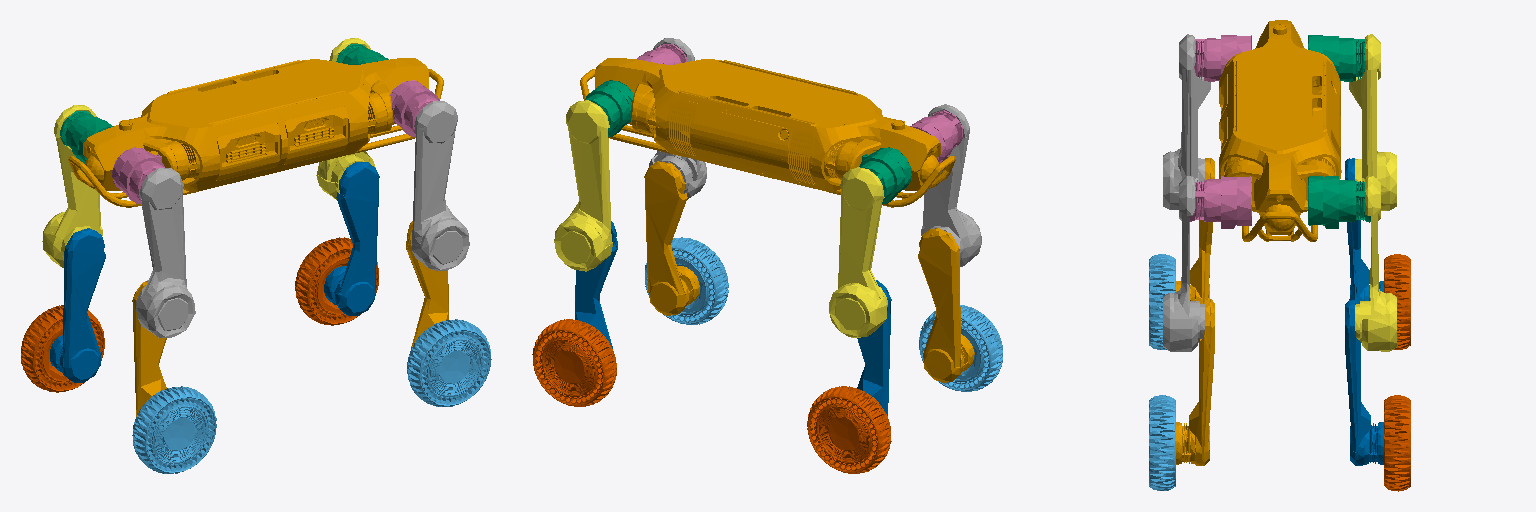
URDF robot description (CA9W):
<?xml version='1.0' encoding='utf-8'?>
<robot name="CA9W">
    <link name="TORSO">
        <inertial>
            <origin xyz="0 0 0" rpy="0 0 0"/>
            <mass value="1e-5"/>
            <inertia ixx="0" ixy="0" ixz="0" iyy="0" iyz="0" izz="0"/>
        </inertial>
        <visual>
            <origin xyz="0 0 0" rpy="0 0 0"/>
            <geometry>
                <mesh filename="package://m20_description/meshes/base_link.stl"/>
            </geometry>
        </visual>
        <collision>
            <origin xyz="0 0 0" rpy="0 0 0"/>
            <geometry>
                <box size="0.75 0.09 0.14"/>
            </geometry>
        </collision>
        <collision>
            <origin xyz="0 0.045 0" rpy="0 1.57079632 0"/>
            <geometry>
                <cylinder length="0.75" radius="0.07"/>
            </geometry>
        </collision>
        <collision>
            <origin xyz="0 -0.045 0" rpy="0 1.57079632 0"/>
            <geometry>
                <cylinder length="0.75" radius="0.07"/>
            </geometry>
        </collision>
    </link>

    <link name="INERTIA">
        <inertial>
            <origin xyz="-0.0004417 -0.007428 -0.001641" rpy="0 0 0"/>
            <mass value="14.5"/>
            <inertia ixx="0.02347" ixy="-0.0001019" ixz="2.493E-5" iyy="0.07120" iyz="0.0001274" izz="0.07795"/>
        </inertial>
    </link>

    <!--*************** Front Left Leg ***************-->
    <link name="FL_HIP">
        <inertial>
            <origin xyz="-0.0008982 0.06392 -0.0006497" rpy="0 0 0"/>
            <mass value="1.183"/>
            <inertia ixx="8.781E-4" ixy="1.562E-4" ixz="-3.009E-6" iyy="2.001E-3" iyz="-6.154E-6" izz="1.955E-3"/>
        </inertial>
        <visual>
            <origin xyz="0 0 0" rpy="0 0 0"/>
            <geometry>
                <mesh filename="package://m20_description/meshes/fl_hip.stl"/>
            </geometry>
        </visual>
    </link>
    <joint name="FL_HipX_joint" type="revolute">
        <origin xyz="0.31225 0.065 0" rpy="0 0 0"/>
        <parent link="TORSO"/>
        <child link="FL_HIP"/>
        <axis xyz="-1 0 0"/>
        <dynamics damping="0" friction="0"/>
        <limit lower="-0.4363" upper="0.6109" effort="76.4" velocity="22.4"/>
    </joint>
    <link name="FL_THIGH">
        <inertial>
            <origin xyz="-0.002529 0.01398 -0.2063" rpy="0 0 0"/>
            <mass value="1.506"/>
            <inertia ixx="1.568E-2" ixy="-7.963E-5" ixz="1.644E-4" iyy="1.544E-2" iyz="-1.807E-3" izz="2.276E-3"/>
        </inertial>
        <visual>
            <origin xyz="0 0 0" rpy="0 0 0"/>
            <geometry>
                <mesh filename="package://m20_description/meshes/fl_thigh.stl"/>
            </geometry>
        </visual>
        <collision>
            <origin xyz="0 -0.03 0" rpy="1.57079632 0 0"/>
            <geometry>
                <cylinder length="0.1" radius="0.048"/>
            </geometry>
        </collision>
        <collision>
            <origin xyz="-0.01 0.005 -0.125" rpy="0 0 0"/>
            <geometry>
                <box size="0.07 0.02 0.25"/>
            </geometry>
        </collision>
        <collision>
            <origin xyz="0 0.005 -0.25" rpy="1.57079632 0 0"/>
            <geometry>
                <cylinder length="0.09" radius="0.05"/>
            </geometry>
        </collision>
    </link>
    <joint name="FL_HipY_joint" type="revolute">
        <origin xyz="0 0.104 0" rpy="0 0 0"/>
        <parent link="FL_HIP"/>
        <child link="FL_THIGH"/>
        <axis xyz="0 -1 0"/>
        <dynamics damping="0" friction="0"/>
        <limit lower="-2.2864" upper="2.583" effort="76.4" velocity="22.4"/>
    </joint>
    <link name="FL_SHANK">
        <inertial>
            <origin xyz="0.002171 0.01967 -0.1979" rpy="0 0 0"/>
            <mass value="1.244"/>
            <inertia ixx="8.156E-3" ixy="-6.974E-5" ixz="-3.069E-4" iyy="8.025E-3" iyz="9.843E-4" izz="1.676E-3"/>
        </inertial>
        <visual>
            <origin xyz="0 0 0" rpy="0 0 0"/>
            <geometry>
                <mesh filename="package://m20_description/meshes/fl_shank.stl"/>
            </geometry>
        </visual>
        <collision>
            <origin xyz="0.015 0.0025 -0.125" rpy="0 0 0"/>
            <geometry>
                <box size="0.06 0.025 0.25"/>
            </geometry>
        </collision>
        <collision>
            <origin xyz="0 0.04 -0.25" rpy="1.57079632 0 0"/>
            <geometry>
                <cylinder length="0.1" radius="0.04"/>
            </geometry>
        </collision>
    </link>
    <joint name="FL_Knee_joint" type="revolute">
        <origin xyz="0 -0.0286 -0.25" rpy="0 0 0"/>
        <parent link="FL_THIGH"/>
        <child link="FL_SHANK"/>
        <axis xyz="0 -1 0"/>
        <dynamics damping="0" friction="0"/>
        <limit lower="-2.81" upper="2.793" effort="76.4" velocity="22.4"/>
    </joint>
    <link name="FL_WHEEL">
        <inertial>
            <origin xyz="0 0.0801 0" rpy="0 0 0"/>
            <mass value="1.429"/>
            <inertia ixx="3.173E-3" ixy="2.433E-6" ixz="-8.15E-7" iyy="4.606E-3" iyz="1.772E-6" izz="3.177E-3"/>
        </inertial>
        <visual>
            <origin xyz="0 0 0" rpy="0 0 0"/>
            <geometry>
                <mesh filename="package://m20_description/meshes/l_wheel.stl"/>
            </geometry>
        </visual>
        <collision>
            <origin xyz="0 0.08 0" rpy="1.57079632 0 0"/>
            <geometry>
                <cylinder length="0.054" radius="0.09"/>
            </geometry>
        </collision>
    </link>
    <!-- <joint name="FL_Wheel_joint" type="continuous">
        <origin xyz="0 0 -0.25" rpy="0 0 0"/>
        <parent link="FL_SHANK"/>
        <child link="FL_WHEEL"/>
        <axis xyz="0 -1 0"/>
        <limit effort="999" velocity="79.3"/>
    </joint> -->
    <joint name="FL_Wheel_joint" type="revolute">
        <origin xyz="0 0 -0.25" rpy="0 0 0"/>
        <parent link="FL_SHANK"/>
        <child link="FL_WHEEL"/>
        <axis xyz="0 -1 0"/>
        <limit effort="21.6" velocity="79.3" lower="-999999" upper="999999"/>
    </joint>
    <!--*************** Front Right Leg ***************-->
    <link name="FR_HIP">
        <inertial>
            <origin xyz="-0.0008982 -0.06392 -0.0006497" rpy="0 0 0"/>
            <mass value="1.183"/>
            <inertia ixx="8.781E-4" ixy="-1.562E-4" ixz="-3.009E-6" iyy="2.001E-3" iyz="6.154E-6" izz="1.955E-3"/>
        </inertial>
        <visual>
            <origin xyz="0 0 0" rpy="0 0 0"/>
            <geometry>
                <mesh filename="package://m20_description/meshes/fr_hip.stl"/>
            </geometry>
        </visual>
    </link>
    <joint name="FR_HipX_joint" type="revolute">
        <origin xyz="0.31225 -0.065 0" rpy="0 0 0"/>
        <parent link="TORSO"/>
        <child link="FR_HIP"/>
        <axis xyz="-1 0 0"/>
        <dynamics damping="0" friction="0"/>
        <limit lower="-0.6109" upper="0.4363" effort="76.4" velocity="22.4"/>
    </joint>
    <link name="FR_THIGH">
        <inertial>
            <origin xyz="-0.002529 -0.01398 -0.2063" rpy="0 0 0"/>
            <mass value="1.506"/>
            <inertia ixx="1.568E-2" ixy="7.963E-5" ixz="1.644E-4" iyy="1.544E-2" iyz="1.807E-3" izz="2.276E-3"/>
        </inertial>
        <visual>
            <origin xyz="0 0 0" rpy="0 0 0"/>
            <geometry>
                <mesh filename="package://m20_description/meshes/fr_thigh.stl"/>
            </geometry>
        </visual>
        <collision>
            <origin xyz="0 0.03 0" rpy="1.57079632 0 0"/>
            <geometry>
                <cylinder length="0.1" radius="0.048"/>
            </geometry>
        </collision>
        <collision>
            <origin xyz="-0.01 -0.005 -0.125" rpy="0 0 0"/>
            <geometry>
                <box size="0.07 0.02 0.25"/>
            </geometry>
        </collision>
        <collision>
            <origin xyz="0 -0.005 -0.25" rpy="1.57079632 0 0"/>
            <geometry>
                <cylinder length="0.09" radius="0.05"/>
            </geometry>
        </collision>
    </link>
    <joint name="FR_HipY_joint" type="revolute">
        <origin xyz="0 -0.104 0" rpy="0 0 0"/>
        <parent link="FR_HIP"/>
        <child link="FR_THIGH"/>
        <axis xyz="0 -1 0"/>
        <dynamics damping="0" friction="0"/>
        <limit lower="-2.2864" upper="2.583" effort="76.4" velocity="22.4"/>
    </joint>
    <link name="FR_SHANK">
        <inertial>
            <origin xyz="0.002171 -0.01967 -0.1979" rpy="0 0 0"/>
            <mass value="1.244"/>
            <inertia ixx="8.156E-3" ixy="6.974E-5" ixz="-3.069E-4" iyy="8.025E-3" iyz="-9.843E-4" izz="1.676E-3"/>
        </inertial>
        <visual>
            <origin xyz="0 0 0" rpy="0 0 0"/>
            <geometry>
                <mesh filename="package://m20_description/meshes/fr_shank.stl"/>
            </geometry>
        </visual>
        <collision>
            <origin xyz="0.015 -0.0025 -0.125" rpy="0 0 0"/>
            <geometry>
                <box size="0.06 0.025 0.25"/>
            </geometry>
        </collision>
        <collision>
            <origin xyz="0 -0.04 -0.25" rpy="1.57079632 0 0"/>
            <geometry>
                <cylinder length="0.1" radius="0.04"/>
            </geometry>
        </collision>
    </link>
    <joint name="FR_Knee_joint" type="revolute">
        <origin xyz="0 0.0286 -0.25" rpy="0 0 0"/>
        <parent link="FR_THIGH"/>
        <child link="FR_SHANK"/>
        <axis xyz="0 -1 0"/>
        <dynamics damping="0" friction="0"/>
        <limit lower="-2.81" upper="2.793" effort="76.4" velocity="22.4"/>
    </joint>
    <link name="FR_WHEEL">
        <inertial>
            <origin xyz="0 -0.0801 0" rpy="0 0 0"/>
            <mass value="1.429"/>
            <inertia ixx="3.173E-3" ixy="-2.433E-6" ixz="-8.15E-7" iyy="4.606E-3" iyz="-1.772E-6" izz="3.177E-3"/>
        </inertial>
        <visual>
            <origin xyz="0 0 0" rpy="0 0 0"/>
            <geometry>
                <mesh filename="package://m20_description/meshes/r_wheel.stl"/>
            </geometry>
        </visual>
        <collision>
            <origin xyz="0 -0.08 0" rpy="1.57079632 0 0"/>
            <geometry>
                <cylinder length="0.054" radius="0.09"/>
            </geometry>
        </collision>
    </link>
    <!-- <joint name="FR_Wheel_joint" type="continuous">
        <origin xyz="0 0 -0.25" rpy="0 0 0"/>
        <parent link="FR_SHANK"/>
        <child link="FR_WHEEL"/>
        <axis xyz="0 -1 0"/>
        <limit effort="999" velocity="79.3"/>
    </joint> -->
    <joint name="FR_Wheel_joint" type="revolute">
        <origin xyz="0 0 -0.25" rpy="0 0 0"/>
        <parent link="FR_SHANK"/>
        <child link="FR_WHEEL"/>
        <axis xyz="0 -1 0"/>
        <limit effort="21.6" velocity="79.3" lower="-999999" upper="999999"/>
    </joint>


    <!--*************** Hind Left Leg ***************-->
    <link name="HL_HIP">
        <inertial>
            <origin xyz="0.0008982 0.06392 -0.0006497" rpy="0 0 0"/>
            <mass value="1.183"/>
            <inertia ixx="8.781E-4" ixy="-1.562E-4" ixz="3.009E-6" iyy="2.001E-3" iyz="-6.154E-6" izz="1.955E-3"/>
        </inertial>
        <visual>
            <origin xyz="0 0 0" rpy="0 0 0"/>
            <geometry>
                <mesh filename="package://m20_description/meshes/hl_hip.stl"/>
            </geometry>
        </visual>
    </link>
    <joint name="HL_HipX_joint" type="revolute">
        <origin xyz="-0.31225 0.065 0" rpy="0 0 0"/>
        <parent link="TORSO"/>
        <child link="HL_HIP"/>
        <axis xyz="-1 0 0"/>
        <dynamics damping="0" friction="0"/>
        <limit lower="-0.4363" upper="0.6109" effort="76.4" velocity="22.4"/>
    </joint>
    <link name="HL_THIGH">
        <inertial>
            <origin xyz="0.002529 0.01398 -0.2063" rpy="0 0 0"/>
            <mass value="1.506"/>
            <inertia ixx="1.568E-2" ixy="7.963E-5" ixz="-1.644E-4" iyy="1.544E-2" iyz="-1.807E-3" izz="2.276E-3"/>
        </inertial>
        <visual>
            <origin xyz="0 0 0" rpy="0 0 0"/>
            <geometry>
                <mesh filename="package://m20_description/meshes/hl_thigh.stl"/>
            </geometry>
        </visual>
        <collision>
            <origin xyz="0 -0.03 0" rpy="1.57079632 0 0"/>
            <geometry>
                <cylinder length="0.1" radius="0.048"/>
            </geometry>
        </collision>
        <collision>
            <origin xyz="0.01 0.005 -0.125" rpy="0 0 0"/>
            <geometry>
                <box size="0.07 0.02 0.25"/>
            </geometry>
        </collision>
        <collision>
            <origin xyz="0 0.005 -0.25" rpy="1.57079632 0 0"/>
            <geometry>
                <cylinder length="0.09" radius="0.05"/>
            </geometry>
        </collision>
    </link>
    <joint name="HL_HipY_joint" type="revolute">
        <origin xyz="0 0.104 0" rpy="0 0 0"/>
        <parent link="HL_HIP"/>
        <child link="HL_THIGH"/>
        <axis xyz="0 -1 0"/>
        <dynamics damping="0" friction="0"/>
        <limit lower="-2.583" upper="2.2864" effort="76.4" velocity="22.4"/>
    </joint>
    <link name="HL_SHANK">
        <inertial>
            <origin xyz="-0.002171 0.01967 -0.1979" rpy="0 0 0"/>
            <mass value="1.244"/>
            <inertia ixx="8.156E-3" ixy="6.974E-5" ixz="3.069E-4" iyy="8.025E-3" iyz="9.843E-4" izz="1.676E-3"/>
        </inertial>
        <visual>
            <origin xyz="0 0 0" rpy="0 0 0"/>
            <geometry>
                <mesh filename="package://m20_description/meshes/hl_shank.stl"/>
            </geometry>
        </visual>
        <collision>
            <origin xyz="-0.015 0.0025 -0.125" rpy="0 0 0"/>
            <geometry>
                <box size="0.06 0.025 0.25"/>
            </geometry>
        </collision>
        <collision>
            <origin xyz="0 0.04 -0.25" rpy="1.57079632 0 0"/>
            <geometry>
                <cylinder length="0.1" radius="0.04"/>
            </geometry>
        </collision>
    </link>
    <joint name="HL_Knee_joint" type="revolute">
        <origin xyz="0 -0.0286 -0.25" rpy="0 0 0"/>
        <parent link="HL_THIGH"/>
        <child link="HL_SHANK"/>
        <axis xyz="0 -1 0"/>
        <dynamics damping="0" friction="0"/>
        <limit lower="-2.793" upper="2.81" effort="76.4" velocity="22.4"/>
    </joint>
    <link name="HL_WHEEL">
        <inertial>
            <origin xyz="0 0.0801 0" rpy="0 0 0"/>
            <mass value="1.429"/>
            <inertia ixx="3.173E-3" ixy="-2.433E-6" ixz="8.15E-7" iyy="4.606E-3" iyz="1.772E-6" izz="3.177E-3"/>
        </inertial>
        <visual>
            <origin xyz="0 0 0" rpy="0 0 0"/>
            <geometry>
                <mesh filename="package://m20_description/meshes/l_wheel.stl"/>
            </geometry>
        </visual>
        <collision>
            <origin xyz="0 0.08 0" rpy="1.57079632 0 0"/>
            <geometry>
                <cylinder length="0.054" radius="0.09"/>
            </geometry>
        </collision>
    </link>
    <!-- <joint name="HL_Wheel_joint" type="continuous">
        <origin xyz="0 0 -0.25" rpy="0 0 0"/>
        <parent link="HL_SHANK"/>
        <child link="HL_WHEEL"/>
        <axis xyz="0 -1 0"/>
        <limit effort="999" velocity="79.3"/>
    </joint> -->
    <joint name="HL_Wheel_joint" type="revolute">
        <origin xyz="0 0 -0.25" rpy="0 0 0"/>
        <parent link="HL_SHANK"/>
        <child link="HL_WHEEL"/>
        <axis xyz="0 -1 0"/>
        <limit effort="21.6" velocity="79.3" lower="-999999" upper="999999"/>
    </joint>

    <!--*************** Hind Right Leg ***************-->
    <link name="HR_HIP">
        <inertial>
            <origin xyz="0.0008982 -0.06392 -0.0006497" rpy="0 0 0"/>
            <mass value="1.183"/>
            <inertia ixx="8.781E-4" ixy="1.562E-4" ixz="3.009E-6" iyy="2.001E-3" iyz="6.154E-6" izz="1.955E-3"/>
        </inertial>
        <visual>
            <origin xyz="0 0 0" rpy="0 0 0"/>
            <geometry>
                <mesh filename="package://m20_description/meshes/hr_hip.stl"/>
            </geometry>
        </visual>
    </link>
    <joint name="HR_HipX_joint" type="revolute">
        <origin xyz="-0.31225 -0.065 0" rpy="0 0 0"/>
        <parent link="TORSO"/>
        <child link="HR_HIP"/>
        <axis xyz="-1 0 0"/>
        <dynamics damping="0" friction="0"/>
        <limit lower="-0.6109" upper="0.4363" effort="76.4" velocity="22.4"/>
        <!-- <safety_controller soft_upper_limit="1" soft_lower_limit="1" k_position="100" k_velocity="1"/> -->
    </joint>
    <link name="HR_THIGH">
        <inertial>
            <origin xyz="0.002529 -0.01398 -0.2063" rpy="0 0 0"/>
            <mass value="1.506"/>
            <inertia ixx="1.568E-2" ixy="-7.963E-5" ixz="-1.644E-4" iyy="1.544E-2" iyz="1.807E-3" izz="2.276E-3"/>
        </inertial>
        <visual>
            <origin xyz="0 0 0" rpy="0 0 0"/>
            <geometry>
                <mesh filename="package://m20_description/meshes/hr_thigh.stl"/>
            </geometry>
        </visual>
        <collision>
            <origin xyz="0 0.03 0" rpy="1.57079632 0 0"/>
            <geometry>
                <cylinder length="0.1" radius="0.048"/>
            </geometry>
        </collision>
        <collision>
            <origin xyz="0.01 0.005 -0.125" rpy="0 0 0"/>
            <geometry>
                <box size="0.07 0.02 0.25"/>
            </geometry>
        </collision>
        <collision>
            <origin xyz="0 -0.005 -0.25" rpy="1.57079632 0 0"/>
            <geometry>
                <cylinder length="0.09" radius="0.05"/>
            </geometry>
        </collision>
    </link>
    <joint name="HR_HipY_joint" type="revolute">
        <origin xyz="0 -0.104 0" rpy="0 0 0"/>
        <parent link="HR_HIP"/>
        <child link="HR_THIGH"/>
        <axis xyz="0 -1 0"/>
        <dynamics damping="0" friction="0"/>
        <limit lower="-2.583" upper="2.2864" effort="76.4" velocity="22.4"/>
    </joint>
    <link name="HR_SHANK">
        <inertial>
            <origin xyz="-0.002171 -0.01967 -0.1979" rpy="0 0 0"/>
            <mass value="1.244"/>
            <inertia ixx="8.156E-3" ixy="-6.974E-5" ixz="3.069E-4" iyy="8.025E-3" iyz="-9.843E-4" izz="1.676E-3"/>
        </inertial>
        <visual>
            <origin xyz="0 0 0" rpy="0 0 0"/>
            <geometry>
                <mesh filename="package://m20_description/meshes/hr_shank.stl"/>
            </geometry>
        </visual>
        <collision>
            <origin xyz="-0.015 -0.0025 -0.125" rpy="0 0 0"/>
            <geometry>
                <box size="0.06 0.025 0.25"/>
            </geometry>
        </collision>
        <collision>
            <origin xyz="0 -0.04 -0.25" rpy="1.57079632 0 0"/>
            <geometry>
                <cylinder length="0.1" radius="0.04"/>
            </geometry>
        </collision>
    </link>
    <joint name="HR_Knee_joint" type="revolute">
        <origin xyz="0 0.0286 -0.25" rpy="0 0 0"/>
        <parent link="HR_THIGH"/>
        <child link="HR_SHANK"/>
        <axis xyz="0 -1 0"/>
        <dynamics damping="0" friction="0"/>
        <limit lower="-2.793" upper="2.81" effort="76.4" velocity="22.4"/>
    </joint>
    <link name="HR_WHEEL">
        <inertial>
            <origin xyz="0 -0.0801 0" rpy="0 0 0"/>
            <mass value="1.429"/>
            <inertia ixx="3.173E-3" ixy="2.433E-6" ixz="8.15E-7" iyy="4.606E-3" iyz="-1.772E-6" izz="3.177E-3"/>
        </inertial>
        <visual>
            <origin xyz="0 0 0" rpy="0 0 0"/>
            <geometry>
                <mesh filename="package://m20_description/meshes/r_wheel.stl"/>
            </geometry>
        </visual>
        <collision>
            <origin xyz="0 -0.08 0" rpy="1.57079632 0 0"/>
            <geometry>
                <cylinder length="0.054" radius="0.09"/>
            </geometry>
        </collision>
    </link>
    <!-- <joint name="HR_Wheel_joint" type="continuous">
        <origin xyz="0 0 -0.25" rpy="0 0 0"/>
        <parent link="HR_SHANK"/>
        <child link="HR_WHEEL"/>
        <axis xyz="0 -1 0"/>
        <limit effort="999" velocity="79.3"/>
    </joint> -->
    <joint name="HR_Wheel_joint" type="revolute">
        <origin xyz="0 0 -0.25" rpy="0 0 0"/>
        <parent link="HR_SHANK"/>
        <child link="HR_WHEEL"/>
        <axis xyz="0 -1 0"/>
        <limit effort="21.6" velocity="79.3" lower="-999999" upper="999999"/>
    </joint>

    <joint name="Torso2Inertia" type="fixed">
        <parent link="TORSO"/>
        <child link="INERTIA"/>
    </joint>

    <link name="imu_link">
      <inertial>
        <origin xyz="0 0 0" rpy="0 0 0" />
        <mass value="0" />
        <inertia ixx="0" ixy="0" ixz="0" iyy="0" iyz="0" izz="0" />
      </inertial>
    </link>
    <joint name="imu_joint" type="fixed">
      <origin xyz="-0.02557 0 0.04232" rpy="0 0 0" />
      <parent link="TORSO" />
      <child link="imu_link" />
      <axis xyz="0 0 0" />
    </joint>
    <link name="radar_link">
      <inertial>
        <origin xyz="0 0 0" rpy="0 0 0" />
        <mass value="0" />
        <inertia ixx="0" ixy="0" ixz="0" iyy="0" iyz="0" izz="0" />
      </inertial>
    </link>
    <joint name="radar_joint" type="fixed">
      <origin xyz="0.28945 0 -0.046825" rpy="0 2.8782 0" />
      <parent link="TORSO" />
      <child link="radar_link" />
      <axis xyz="0 0 0" />
    </joint>

</robot>

--- What the picture shows (computed from the rendered views, not written in the file) ---
The picture shows the robot from 3 angles, left to right: view 1: azimuth 30°, elevation 25°; view 2: azimuth 150°, elevation 25°; view 3: azimuth 270°, elevation 25°; orthographic projection.
Model CA9W with 20 links and 19 joints (16 revolute, 3 fixed), rooted at TORSO, posed all joints at 0.
Visible links, largest first — view 1: TORSO, HR_THIGH, FR_THIGH, FR_WHEEL, HR_WHEEL, FL_SHANK, HL_SHANK, HL_THIGH, FL_WHEEL, HL_WHEEL, HR_SHANK, FR_SHANK (+5 smaller); view 2: TORSO, HL_THIGH, FL_THIGH, FL_WHEEL, HL_WHEEL, FR_SHANK, HR_SHANK, HR_THIGH, FR_WHEEL, HR_WHEEL, HL_SHANK, FL_SHANK (+5 smaller); view 3: TORSO, HR_THIGH, HL_THIGH, FR_THIGH, FL_THIGH, FR_SHANK, FL_SHANK, FR_HIP, FL_HIP, FL_WHEEL, FR_WHEEL, HL_WHEEL (+5 smaller).
Link boxes in pixels (<box>): TORSO: <box>68,58,443,207</box>; HR_THIGH: <box>136,168,195,337</box>; FR_THIGH: <box>411,101,469,271</box>; FR_WHEEL: <box>407,319,491,406</box>; HR_WHEEL: <box>132,386,216,473</box>; FL_SHANK: <box>324,162,379,315</box>; HL_SHANK: <box>50,228,105,382</box>; HL_THIGH: <box>42,105,102,267</box>; FL_WHEEL: <box>295,237,378,325</box>; HL_WHEEL: <box>21,305,104,392</box>; HR_SHANK: <box>132,280,166,416</box>; FR_SHANK: <box>406,221,448,348</box>; TORSO: <box>580,58,955,207</box>; HL_THIGH: <box>829,167,887,337</box>; FL_THIGH: <box>554,100,612,271</box>; FL_WHEEL: <box>532,319,616,406</box>; HL_WHEEL: <box>807,386,891,473</box>; FR_SHANK: <box>644,161,699,315</box>; HR_SHANK: <box>918,228,974,382</box>; HR_THIGH: <box>921,104,981,266</box>; FR_WHEEL: <box>645,237,728,324</box>; HR_WHEEL: <box>919,305,1002,391</box>; HL_SHANK: <box>857,280,891,415</box>; FL_SHANK: <box>575,221,617,348</box>; TORSO: <box>1219,20,1341,241</box>; HR_THIGH: <box>1163,34,1210,209</box>; HL_THIGH: <box>1349,34,1396,210</box>; FR_THIGH: <box>1163,176,1204,351</box>; FL_THIGH: <box>1355,175,1396,351</box>; FR_SHANK: <box>1176,299,1214,465</box>; FL_SHANK: <box>1345,299,1383,465</box>; FR_HIP: <box>1189,176,1251,228</box>; FL_HIP: <box>1308,176,1370,228</box>; FL_WHEEL: <box>1384,395,1410,491</box>; FR_WHEEL: <box>1149,395,1175,490</box>; HL_WHEEL: <box>1384,254,1410,349</box>.
Size in the robot's own frame: 0.8262 by 0.4911 by 0.6658 metres.
17 mesh visuals loaded from 15 distinct referenced files (15 binary STL).